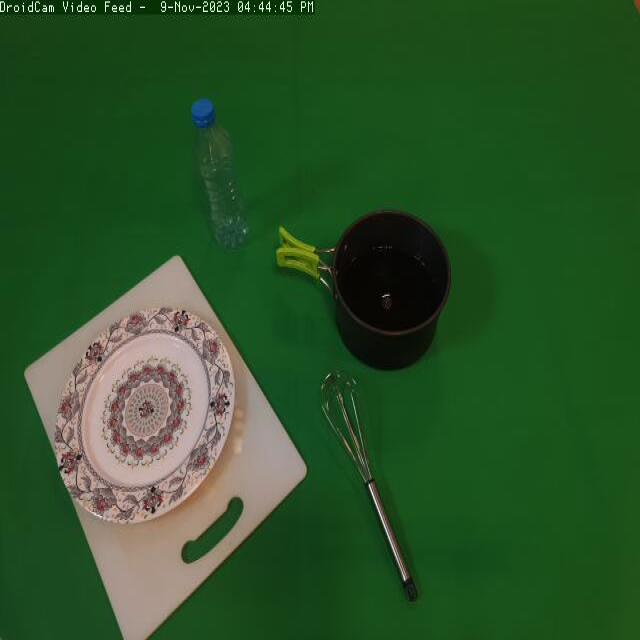bottle: (183, 87, 265, 272)
cutting board: (18, 247, 316, 640)
fullpot: (266, 200, 467, 375)
plate: (54, 307, 237, 525)
whisk: (314, 363, 435, 615)
